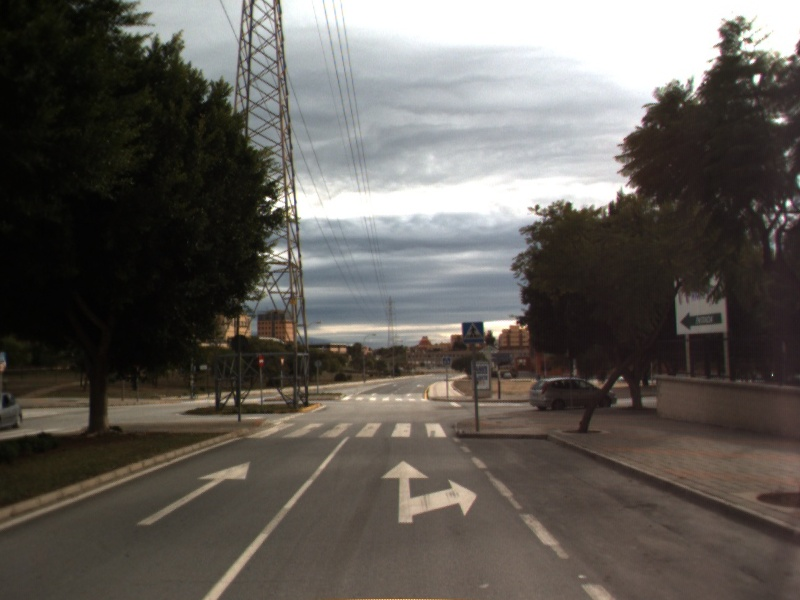STRAIGHT: (135, 459, 253, 527)
STRAIGHT_RIGHT: (378, 458, 480, 525)
